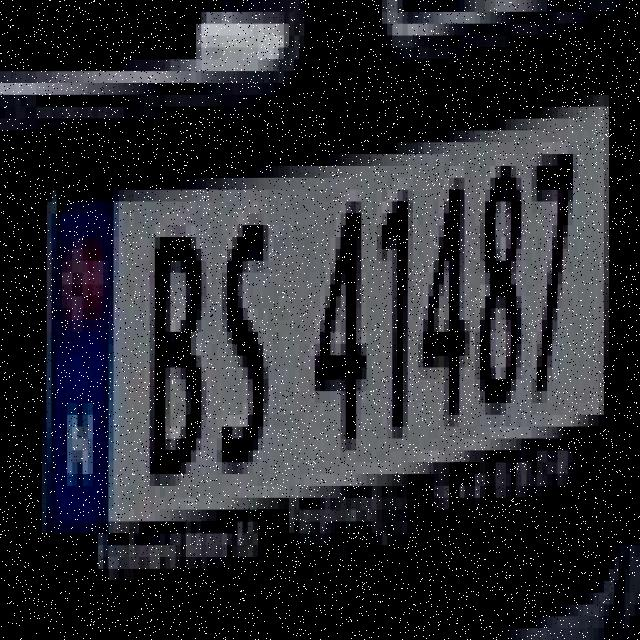licenseplate: (25, 57, 632, 600)
